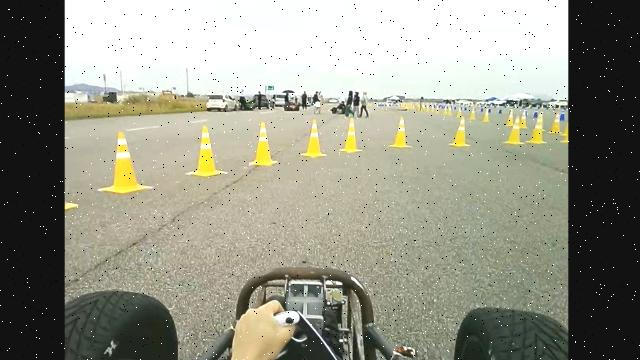yellow cone: (98, 130, 153, 194), (186, 125, 228, 177), (249, 121, 278, 166), (301, 119, 327, 158), (338, 116, 364, 153), (524, 111, 548, 147), (388, 115, 413, 148), (504, 113, 527, 148), (448, 116, 471, 147)
